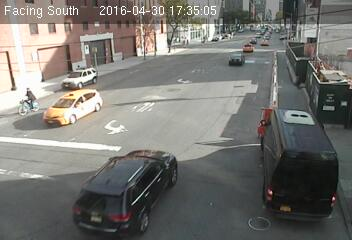neg: (16, 85, 37, 113), (82, 78, 94, 94), (98, 57, 106, 68), (258, 55, 266, 66), (230, 54, 237, 63)
pos: (184, 36, 191, 45), (180, 37, 186, 45)
